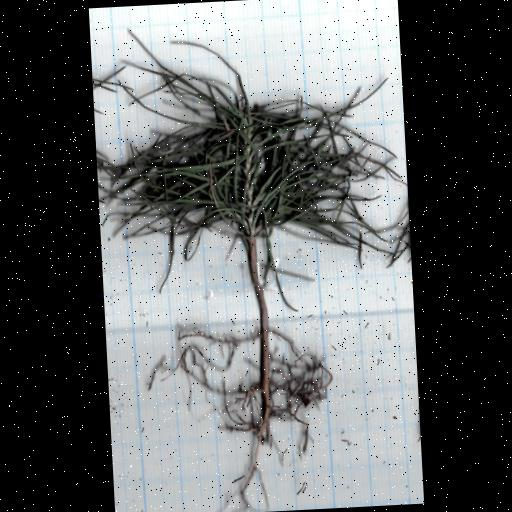flowerCedr: (97, 55, 405, 270)
rootCedr: (147, 330, 333, 505)
stemCedr: (246, 239, 269, 346)
